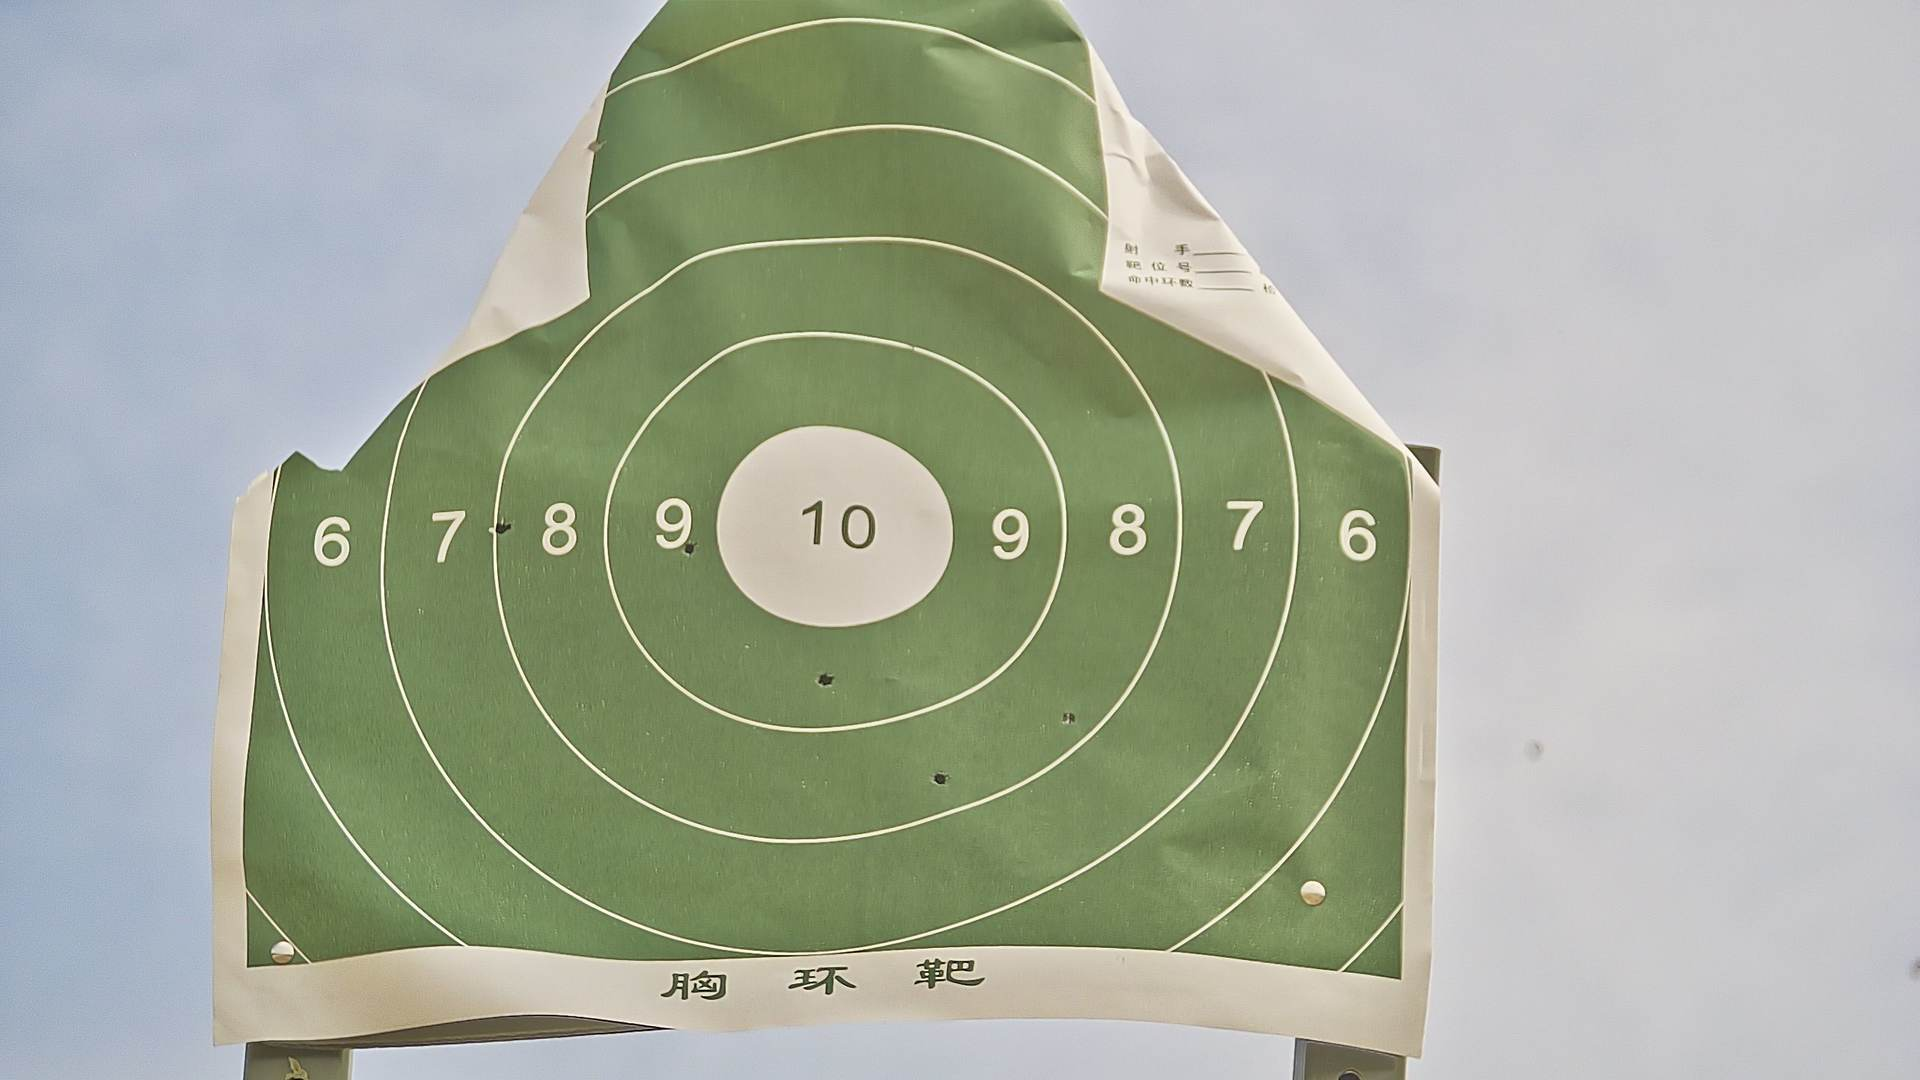hole: (491, 520, 512, 535), (1062, 709, 1079, 727), (816, 673, 833, 688), (932, 770, 949, 786), (588, 138, 604, 152), (682, 541, 695, 554)
target: (236, 3, 1407, 986)
ten: (717, 419, 959, 633)
